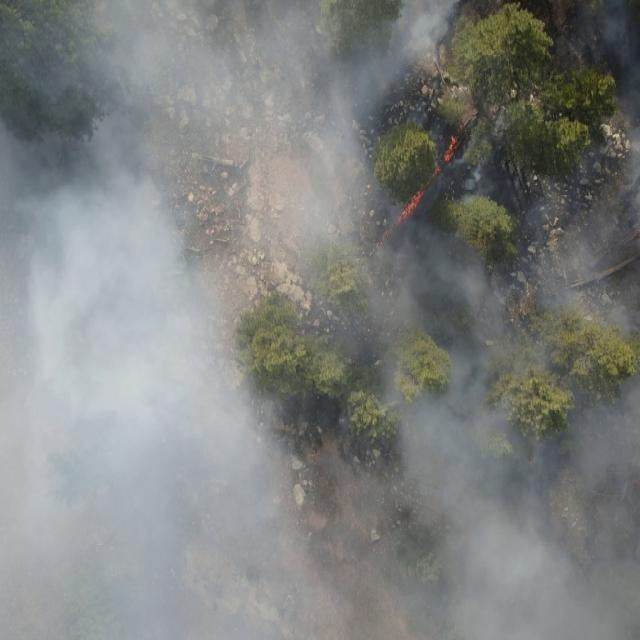fire: (375, 128, 466, 250)
smoke: (0, 0, 640, 640)
